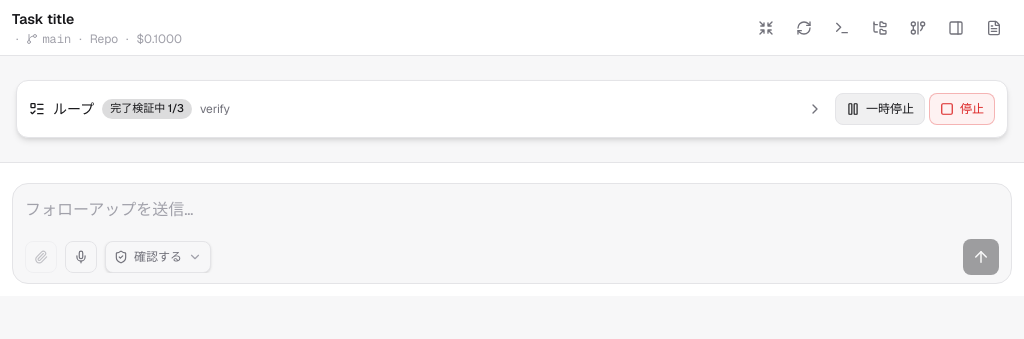
Scenario: TaskView › does not manually send when pausing a verifying Goal loop returns a non-paused status
In the dropdown labelled "フォローアップを送信": (512, 210) [25,192,999,228], type "manual follow-up"
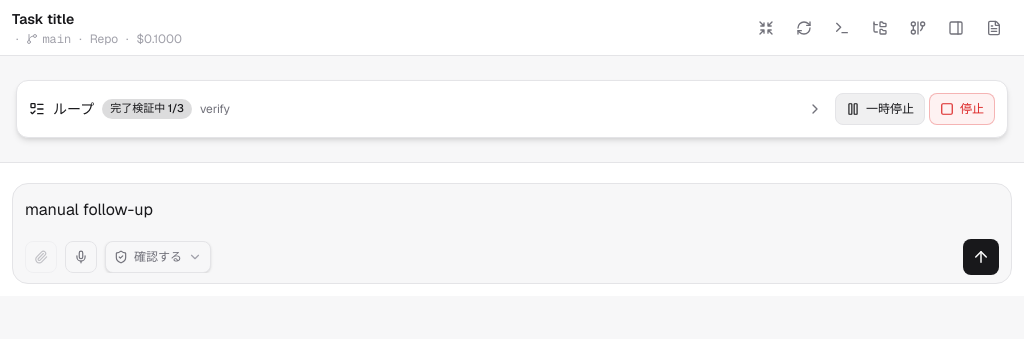
Click the button named "送信": (981, 257) [963,239,999,275]
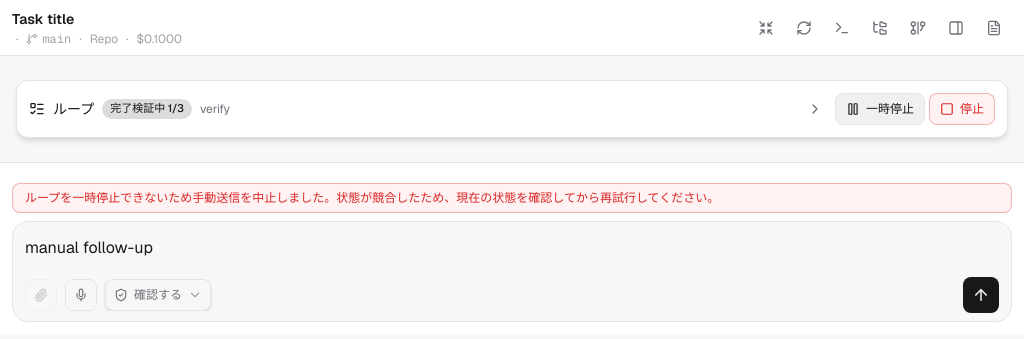
Expected: the text "ループを一時停止できないため手動送信を中止しました。状態が競合したため、現在の状態を確認してから再試行してください。" is shown, [12,183,1012,213]
